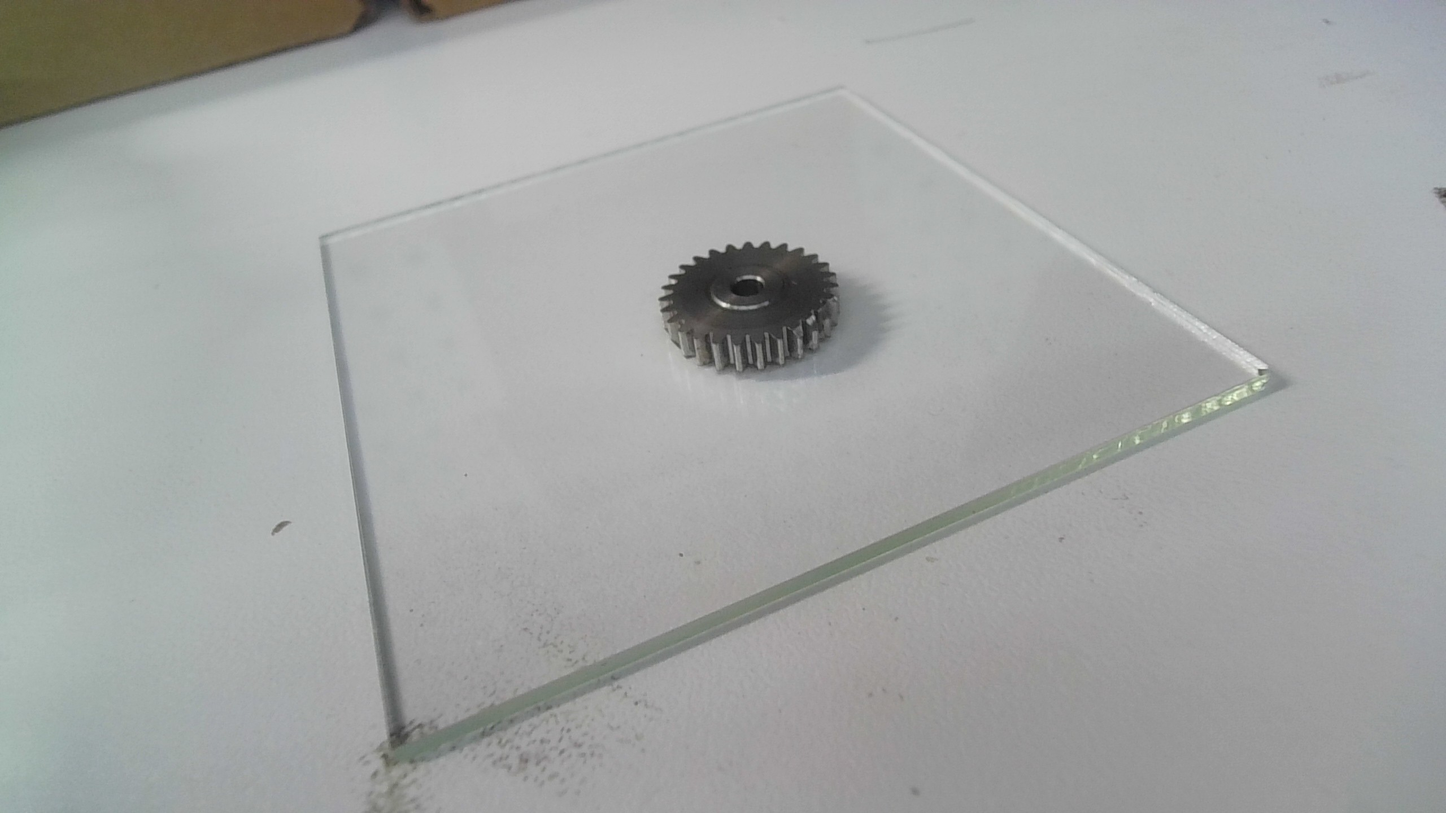gear: (654, 237, 846, 375)
